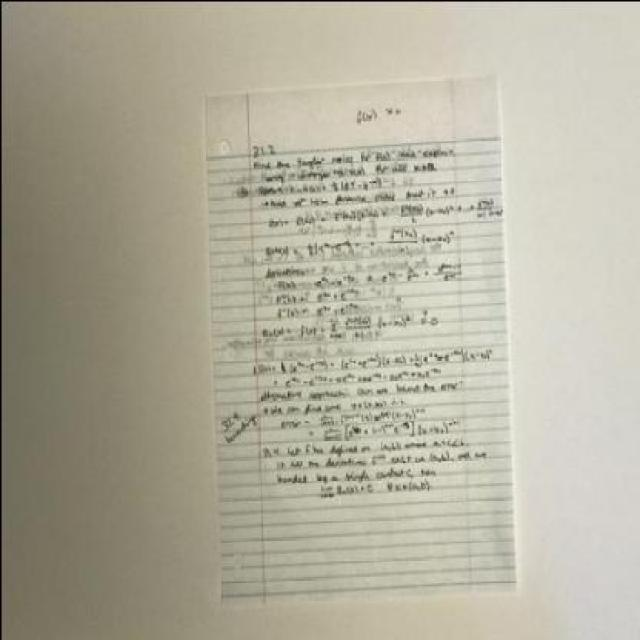PAPER: (202, 79, 520, 603)
